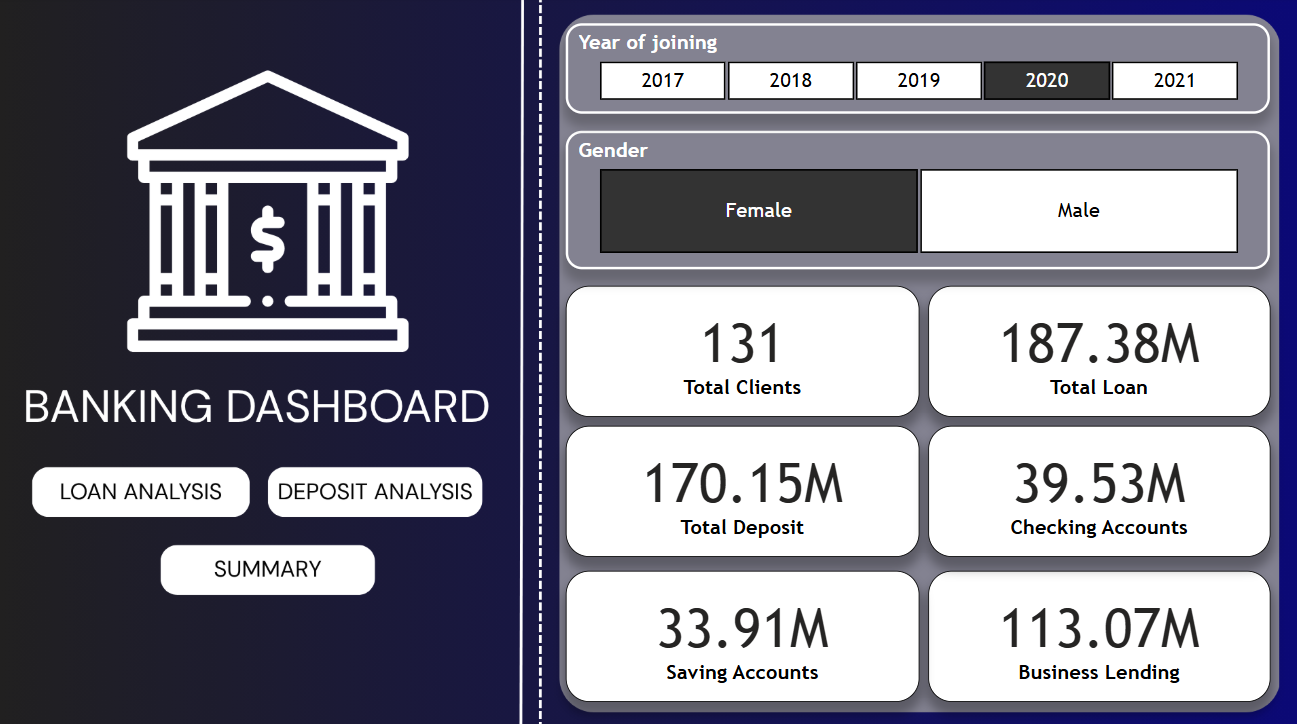

What the dashboard file says about the page in this screenshot:
{"tool":"powerbi","page":{"name":"Home","canvas":[1280,720],"ordinal":0},"visuals":[{"type":"card","fields":{"Values":["CountNonNull(Banking.Client ID)"]},"box":[558.6,282.9,347.1,128.6],"z":0},{"type":"card","fields":{"Values":["Measures Table.Total Loan"]},"box":[914.3,282.9,335.7,128.6],"z":1000},{"type":"card","fields":{"Values":["Measures Table.Total Deposit"]},"box":[558.6,421.4,347.1,128.6],"z":2000},{"type":"card","fields":{"Values":["Sum(Banking.Business Lending)"]},"box":[914.3,562.9,335.7,128.6],"z":3000},{"type":"card","fields":{"Values":["Sum(Banking.Saving Accounts)"]},"box":[558.6,562.9,347.1,128.6],"z":4000},{"type":"card","fields":{"Values":["Sum(Banking.Checking Accounts)"]},"box":[914.3,421.4,335.7,128.6],"z":5000},{"type":"slicer","title":"Gender","fields":{"Values":["Banking.GenderId"]},"box":[558.6,131.4,691.4,135.7],"z":6000},{"type":"slicer","title":"Year of joining","fields":{"Values":["Banking.Year of Joining"]},"box":[558.6,25.7,691.4,88.6],"z":7000},{"type":"actionButton","box":[32.5,455,217.5,62.5],"z":8000},{"type":"actionButton","box":[262.9,455.7,217.1,61.4],"z":9000},{"type":"actionButton","box":[154.3,531.4,217.1,61.4],"z":10000}]}

Visuals, with their boxes in screenshot pixels (x1, y1, x2, y2), scaled from the page's 1280x720 canvas onto the 1297x724 screenshot:
card - CountNonNull(Banking.Client ID): rect(566, 284, 918, 414)
card - Measures Table.Total Loan: rect(926, 284, 1267, 414)
card - Measures Table.Total Deposit: rect(566, 424, 918, 553)
card - Sum(Banking.Business Lending): rect(926, 566, 1267, 695)
card - Sum(Banking.Saving Accounts): rect(566, 566, 918, 695)
card - Sum(Banking.Checking Accounts): rect(926, 424, 1267, 553)
"Gender" slicer: rect(566, 132, 1267, 269)
"Year of joining" slicer: rect(566, 26, 1267, 115)
actionButton: rect(33, 458, 253, 520)
actionButton: rect(266, 458, 486, 520)
actionButton: rect(156, 534, 376, 596)
